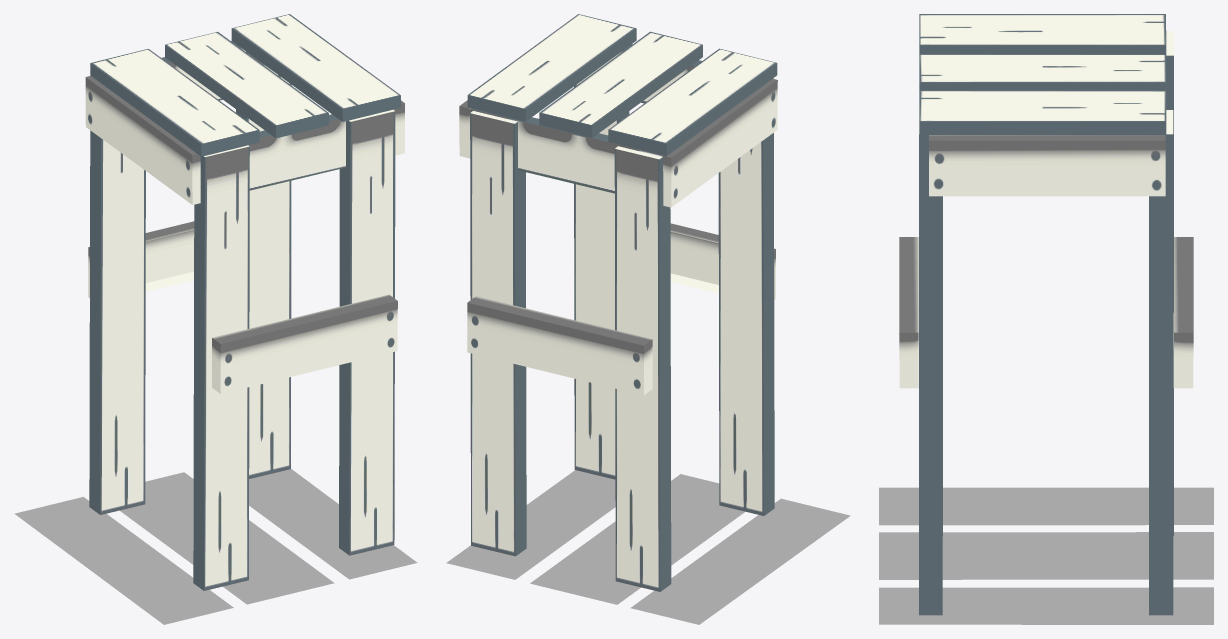
Rendered from BeachParty_Chair.glb.
3 views of the same model, side by side, from view 1: azimuth 30°, elevation 25°; view 2: azimuth 150°, elevation 25°; view 3: azimuth 270°, elevation 25° (orthographic). The views are drawn at different scales.
Parts seen in each view (by area): view 1: BeachParty_Chair, Chair_Shadow; view 2: BeachParty_Chair, Chair_Shadow; view 3: BeachParty_Chair, Chair_Shadow.
Boxes of the visible parts, x1,y1,x2,y2 form: BeachParty_Chair: (85, 14, 404, 590); Chair_Shadow: (15, 469, 416, 624); BeachParty_Chair: (459, 14, 777, 591); Chair_Shadow: (447, 470, 849, 624); BeachParty_Chair: (899, 14, 1193, 615); Chair_Shadow: (879, 488, 1213, 624).
Bounding box in the file's own units: 1.19 × 1.96 × 1.18.
2 materials, 2 textured.
